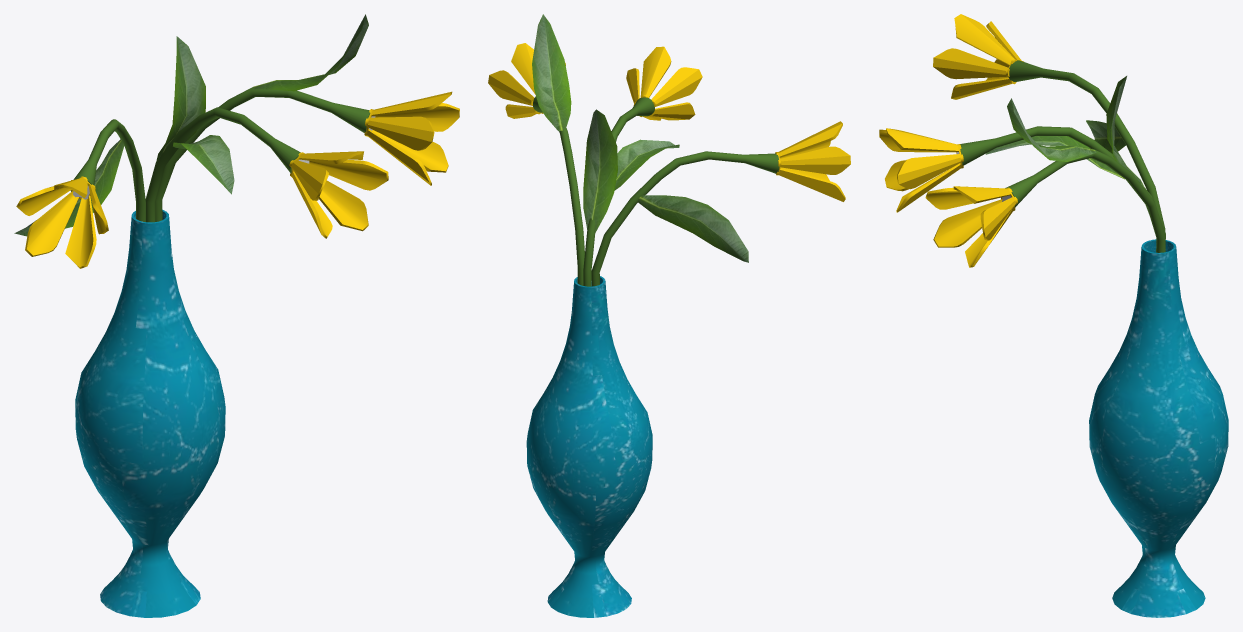
Rendered from flower.glb.
The picture shows the model from 3 angles, left to right: view 1: azimuth 30°, elevation 25°; view 2: azimuth 150°, elevation 25°; view 3: azimuth 270°, elevation 25°; orthographic projection. The views are drawn at different scales.
Parts seen in each view (by area): view 1: polySurface98; view 2: polySurface98; view 3: polySurface98.
Boxes of the visible parts, x1,y1,x2,y2 form: polySurface98: [14, 14, 459, 617]; polySurface98: [488, 14, 850, 617]; polySurface98: [879, 14, 1228, 617].
Size of the model in its own units: 0.4196 by 0.5564 by 0.314.
1 material, 1 textured.
